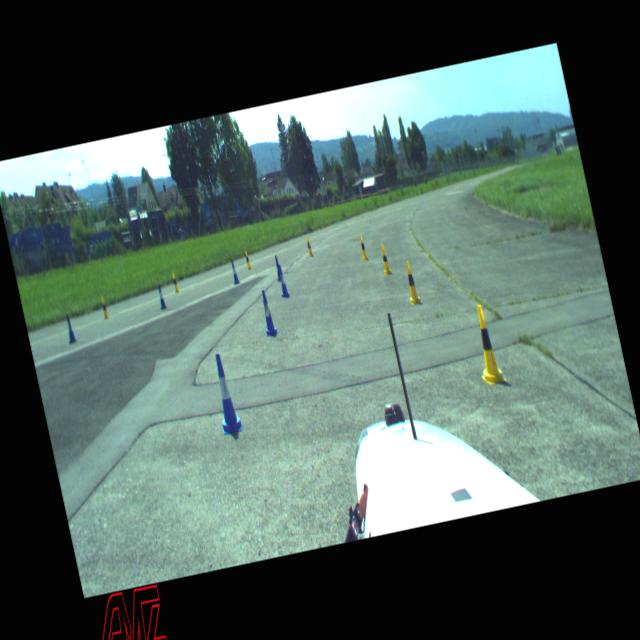blue_cone: (207, 352, 242, 434), (258, 288, 278, 338), (276, 264, 290, 298), (63, 312, 77, 342), (228, 260, 240, 284), (272, 254, 283, 280), (156, 284, 167, 309)
yellow_cone: (467, 302, 506, 386), (401, 260, 422, 306), (378, 242, 392, 276), (99, 294, 110, 318), (358, 234, 368, 260), (170, 271, 180, 293), (304, 236, 314, 256), (244, 250, 252, 270)
